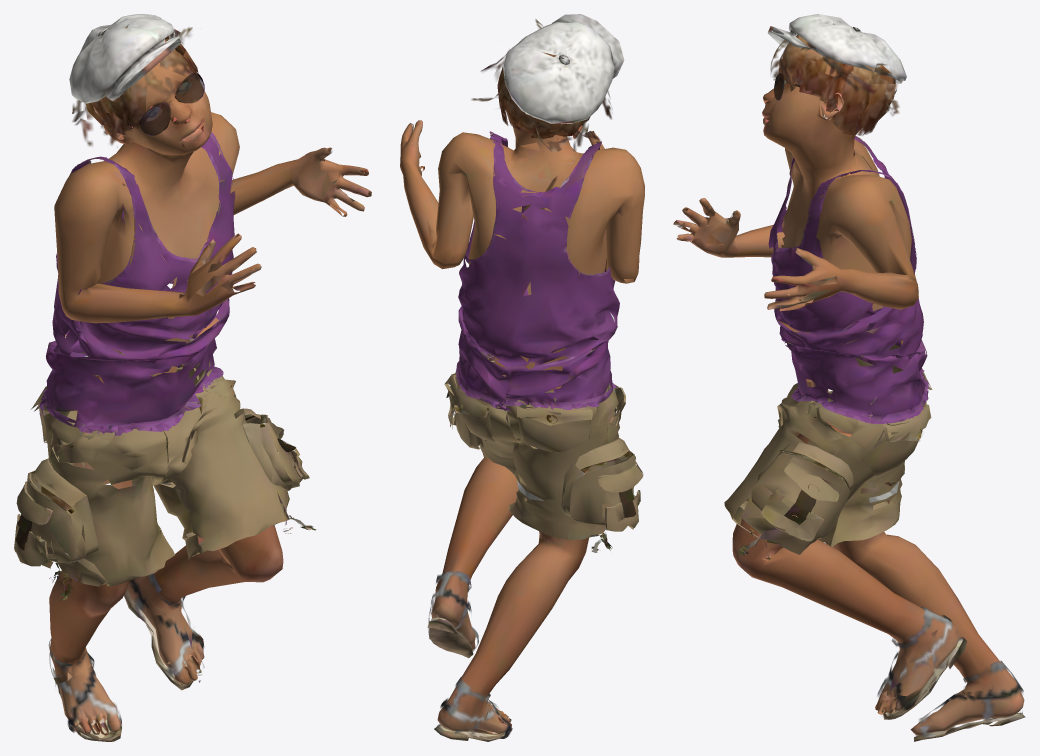
3 renders of one model, left to right at view 1: azimuth 30°, elevation 25°; view 2: azimuth 150°, elevation 25°; view 3: azimuth 270°, elevation 25°, orthographic. The views are drawn at different scales.
Visible parts, largest first — view 1: p00700; view 2: p00700; view 3: p00700.
Boxes of the visible parts, left/top/right/bottom form: p00700: left=14, top=14, right=371, bottom=741; p00700: left=400, top=14, right=644, bottom=741; p00700: left=673, top=14, right=1025, bottom=741.
Size of the model in its own units: 0.5373 by 1.29 by 0.5815.
Materials: 1 (1 with a texture image).
